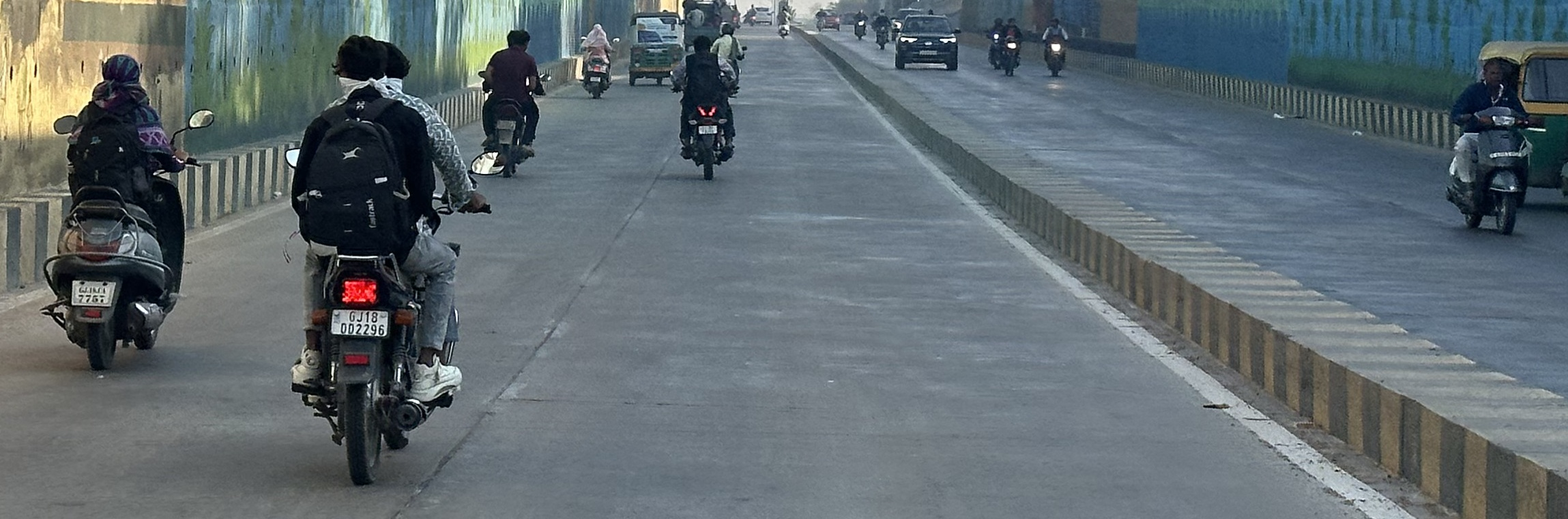BikeWithRider: (267, 25, 497, 492), (28, 44, 218, 377), (1432, 50, 1549, 240), (662, 24, 751, 184), (467, 23, 552, 181), (570, 18, 620, 101), (981, 12, 1028, 78), (1036, 13, 1080, 80)
NoHelmet: (323, 29, 392, 99), (358, 35, 416, 100), (91, 48, 151, 101), (1474, 53, 1522, 89), (502, 25, 535, 57), (686, 29, 719, 59), (587, 19, 607, 36)
